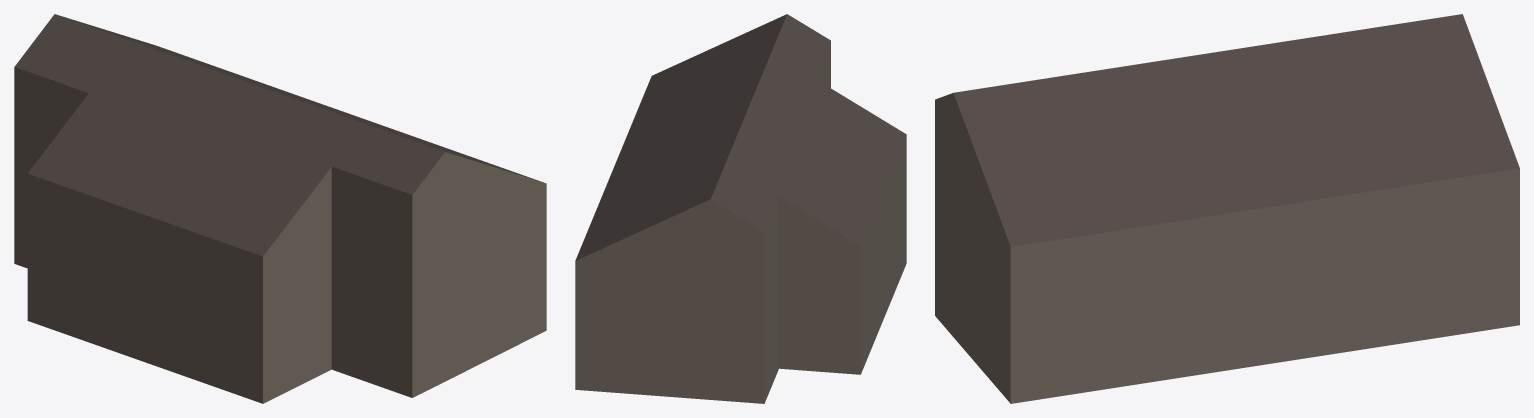
The picture shows the model from 3 angles, left to right: view 1: azimuth 30°, elevation 25°; view 2: azimuth 150°, elevation 25°; view 3: azimuth 270°, elevation 25°; orthographic projection. The views are drawn at different scales.
Parts seen in each view (by area): view 1: HP-w1376988765; view 2: HP-w1376988765; view 3: HP-w1376988765.
Part boxes in pixels (box(x1,y1,x2,y2)): HP-w1376988765: box(14, 14, 546, 403); HP-w1376988765: box(575, 14, 906, 403); HP-w1376988765: box(935, 14, 1519, 403).
Bounding box in the file's own units: 16.16 × 9.36 × 20.28.
